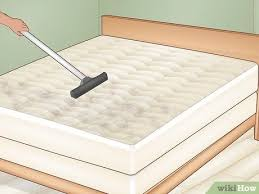bed-matress: (1, 35, 257, 194)
